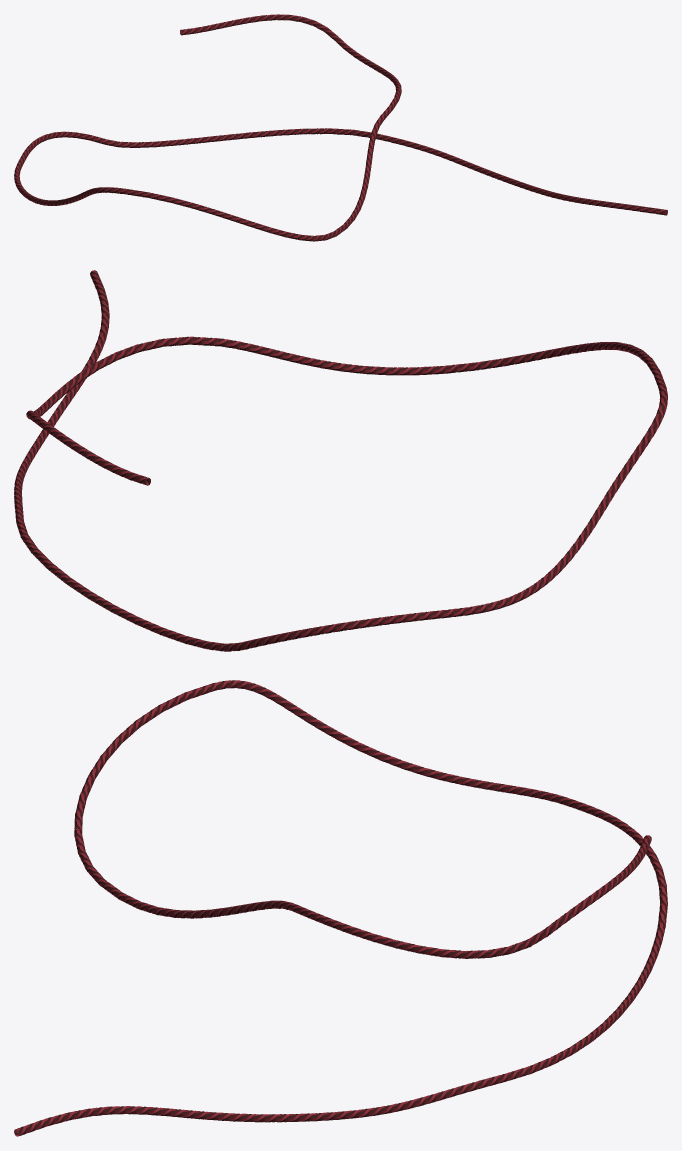
3 views of the same model, one above another, from view 1: azimuth 30°, elevation 25°; view 2: azimuth 150°, elevation 25°; view 3: azimuth 270°, elevation 25° (orthographic). The views are drawn at different scales.
Parts seen in each view (by area): view 1: Root_2; view 2: Root_2; view 3: Root_2.
Boxes of the visible parts, x1=… form: Root_2: x1=14, y1=14, x2=667, y2=241; Root_2: x1=14, y1=270, x2=667, y2=651; Root_2: x1=14, y1=680, x2=667, y2=1136.
Bounding box in the file's own units: 66169 × 15149 × 54226.
